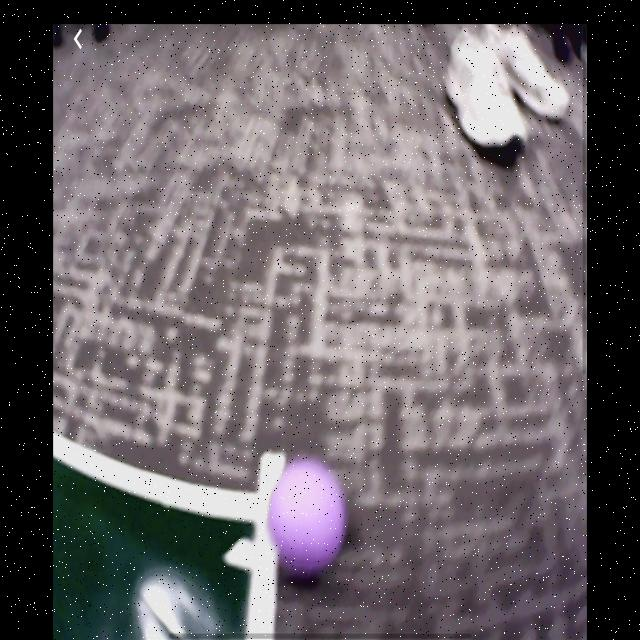ball: (267, 454, 349, 581)
